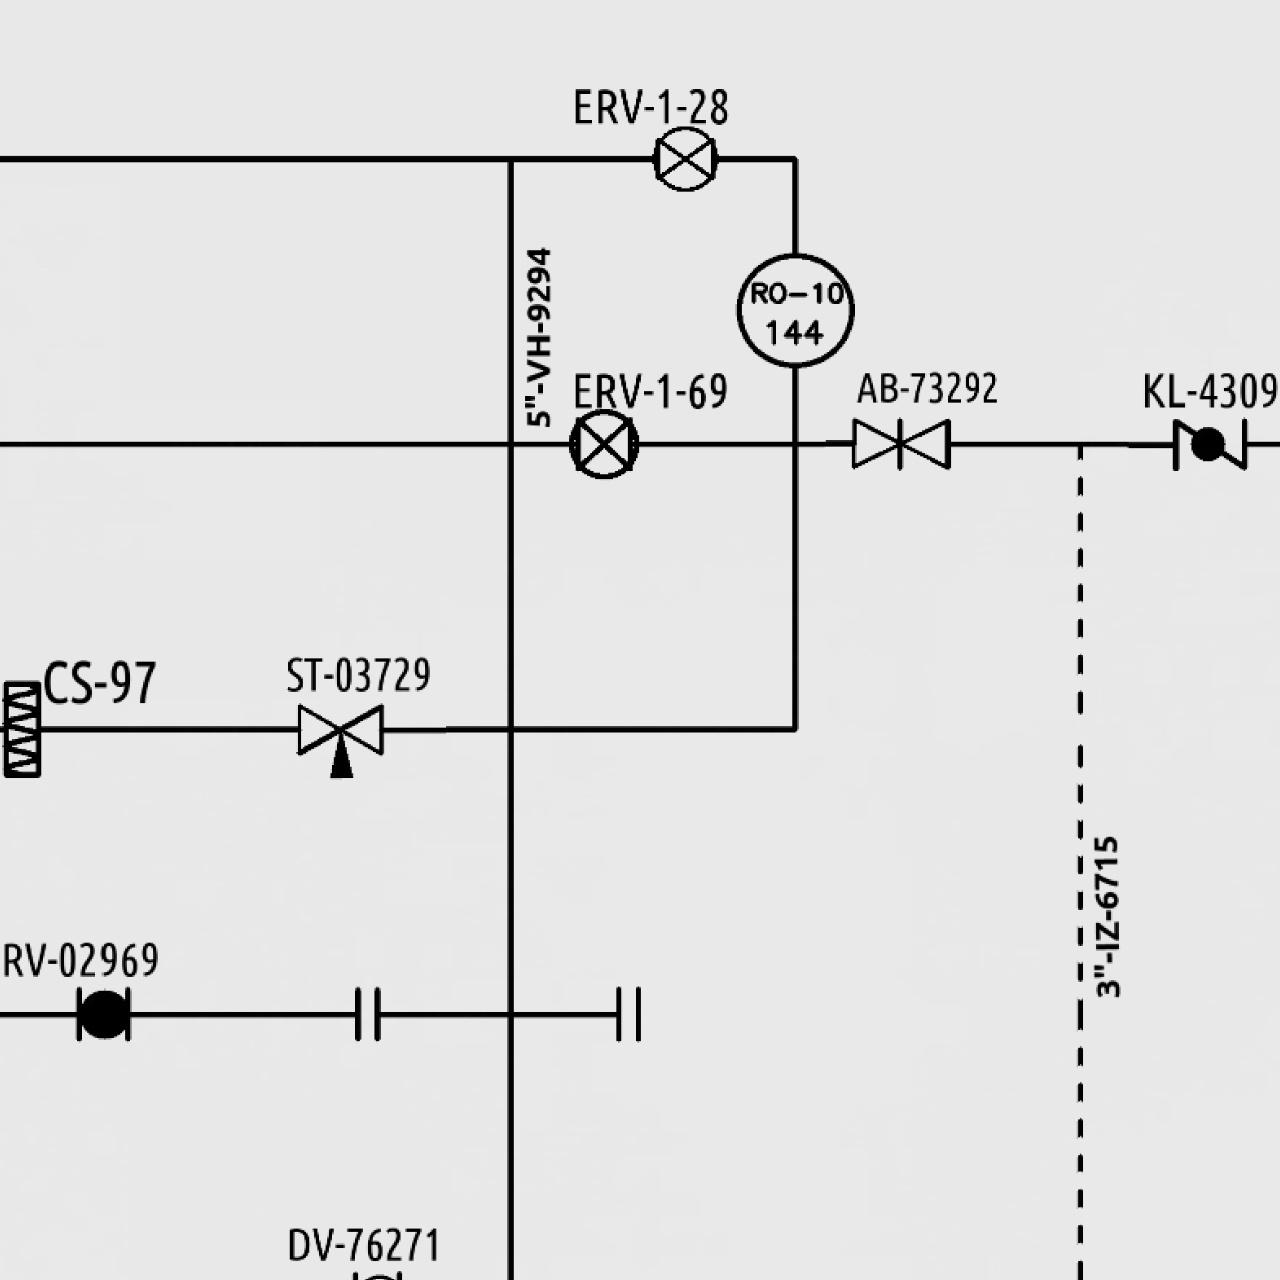Control-Panel: (731, 246, 857, 373)
